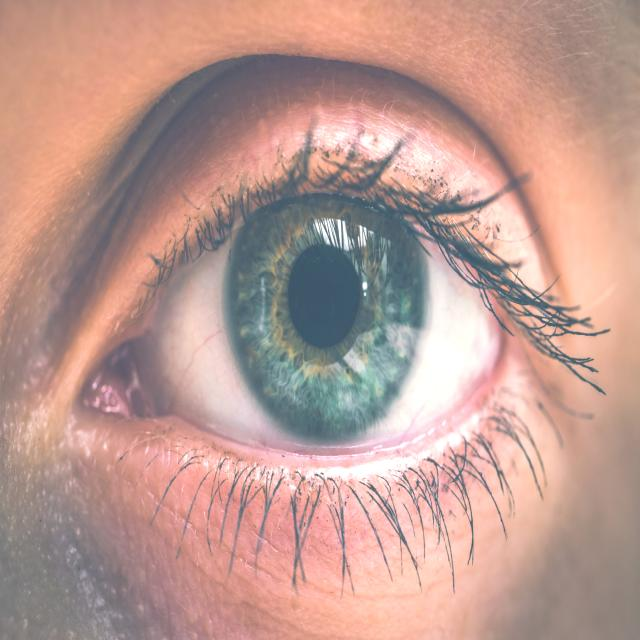Cataract: (103, 142, 530, 498)
